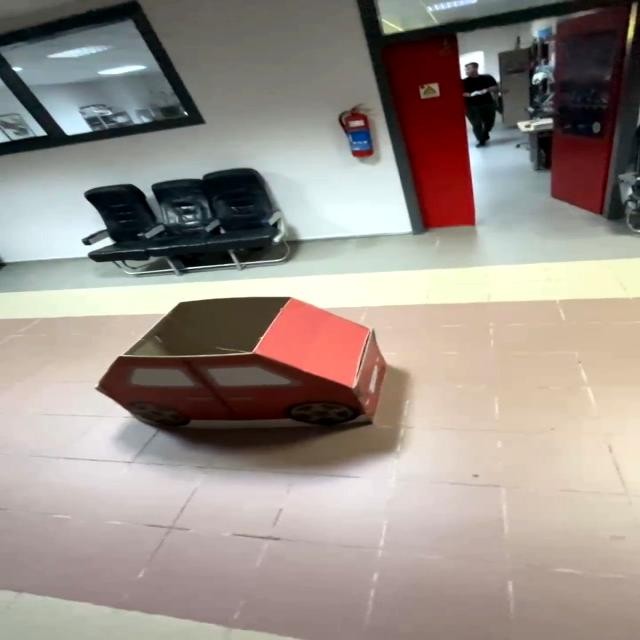red_car: (64, 287, 421, 468)
